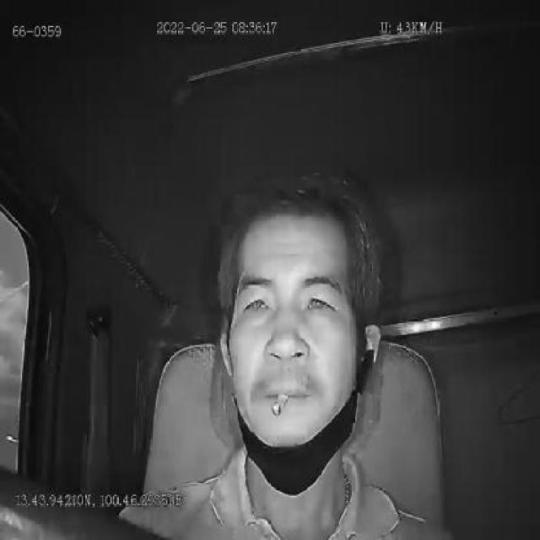smoking: (271, 391, 288, 415)
